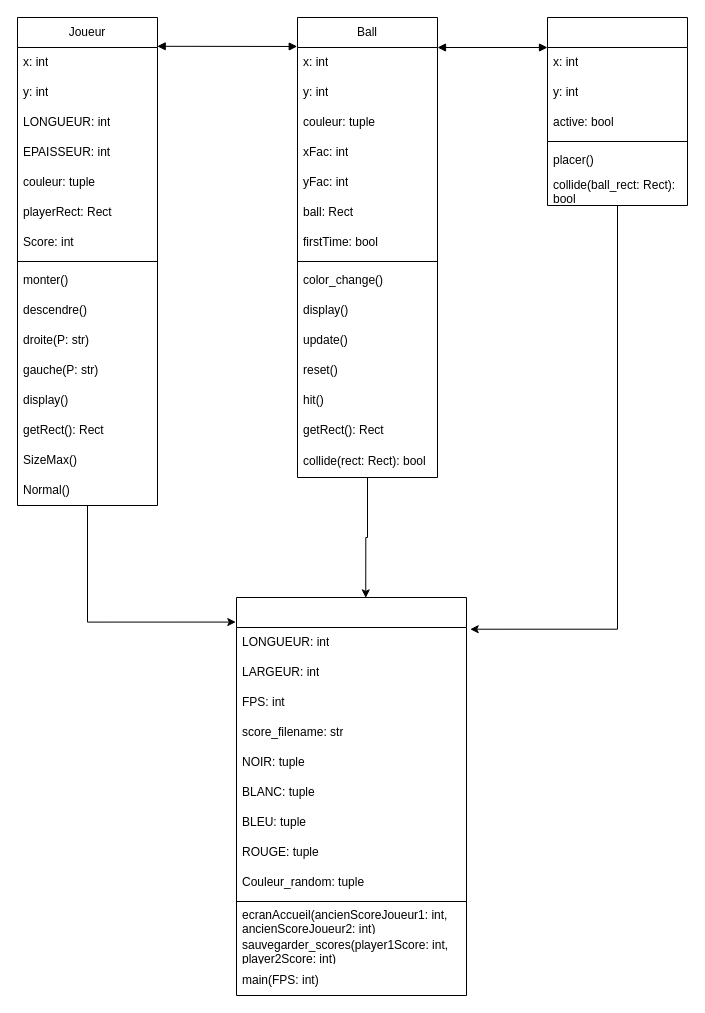
This 705x1013 diagram has some shape labels left out. The box of each missing label's shape, as (x1, y1, x2, y2) in pixels:
BONUS: (546, 16, 688, 206)
Pong: (236, 596, 466, 996)
